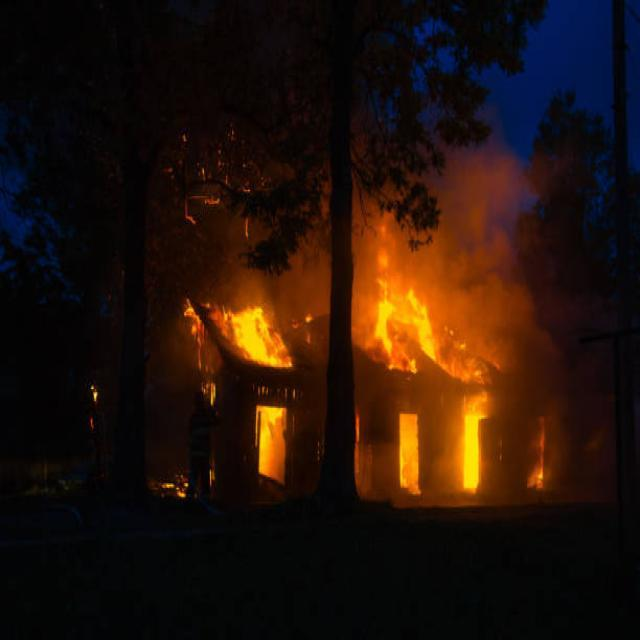Fire: (364, 249, 447, 380), (171, 296, 293, 385), (460, 373, 490, 492), (253, 401, 292, 483)
